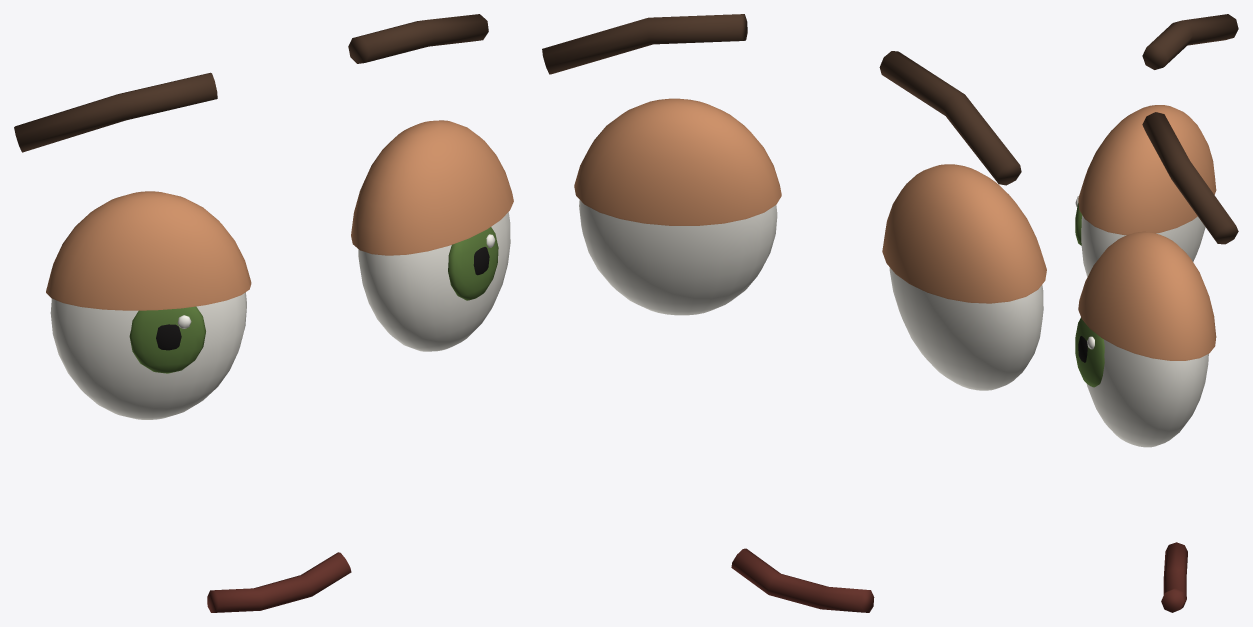
The model's file is face_tired.fbx.
The picture shows the model from 3 angles, left to right: view 1: azimuth 30°, elevation 25°; view 2: azimuth 150°, elevation 25°; view 3: azimuth 270°, elevation 25°; orthographic projection. The views are drawn at different scales.
Visible parts, largest first — view 1: face_tired; view 2: face_tired; view 3: face_tired.
Part boxes in pixels (x1,y1,x2,y2): face_tired: (14, 14, 513, 612); face_tired: (542, 14, 1046, 612); face_tired: (1075, 14, 1238, 612).
Size of the model in its own units: 0.1871 by 0.2117 by 0.0604.
